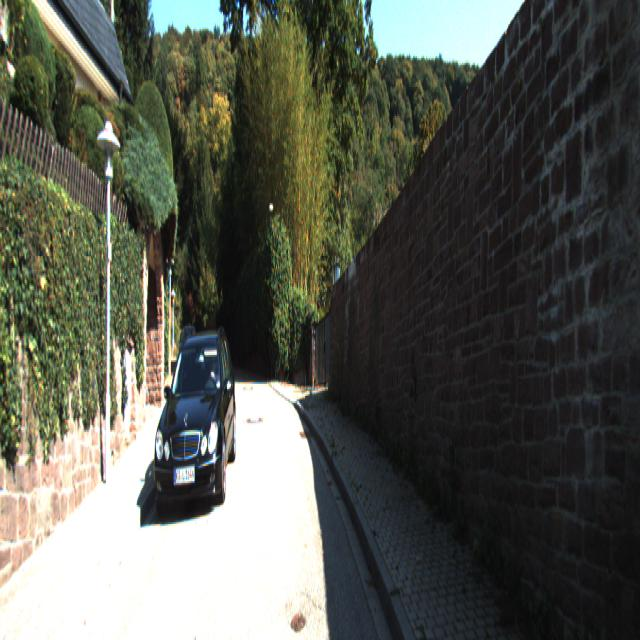Car: (152, 328, 238, 530), (180, 325, 198, 376)
